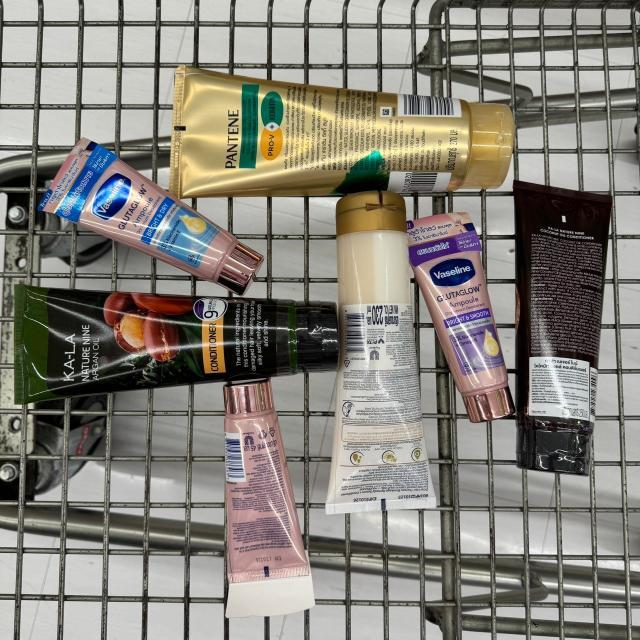Squeeze Tube: (168, 62, 518, 196), (11, 283, 340, 409), (30, 133, 265, 296), (322, 193, 435, 515), (516, 182, 614, 474), (222, 374, 319, 617), (411, 205, 514, 429)
